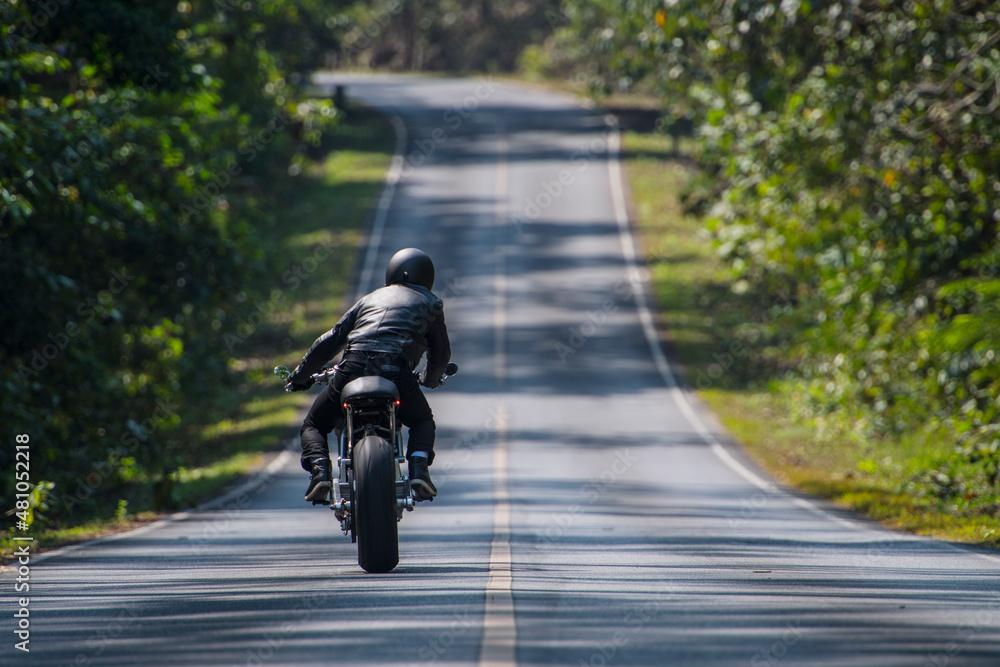helmet: (385, 247, 435, 293)
